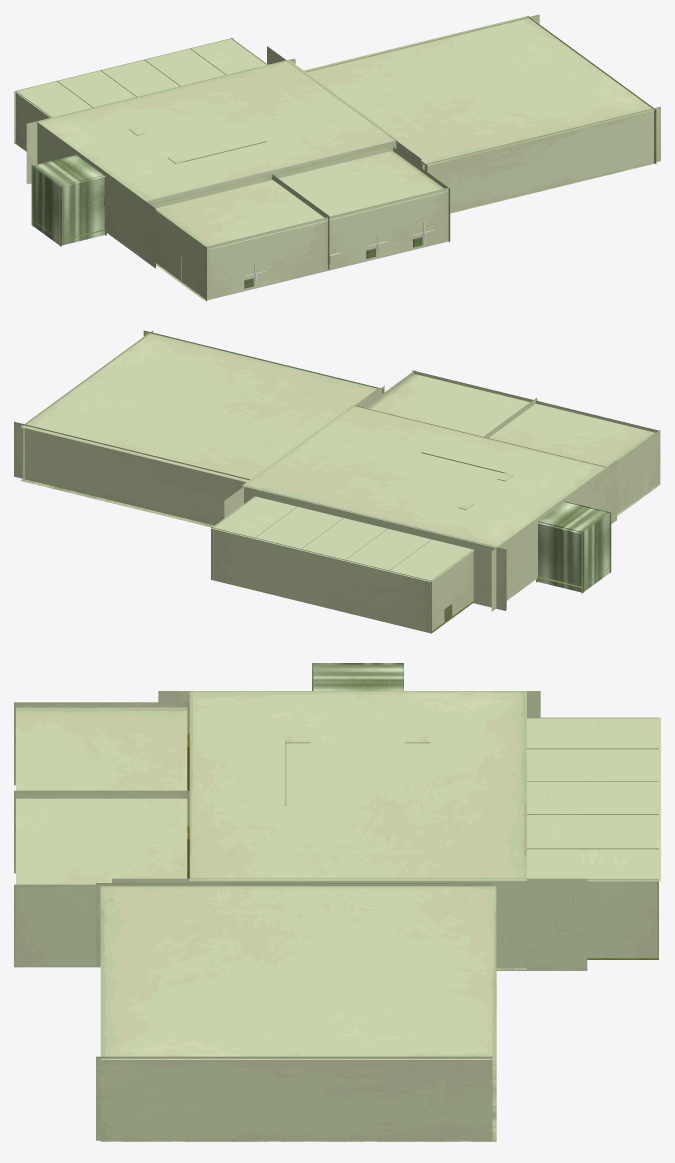
Rendered from Dream4.glb.
3 views of the same model, one above another, from view 1: azimuth 30°, elevation 25°; view 2: azimuth 150°, elevation 25°; view 3: azimuth 270°, elevation 25° (orthographic). The views are drawn at different scales.
Parts seen in each view (by area): view 1: Estructura; view 2: Estructura; view 3: Estructura.
Boxes of the visible parts, x1,y1,x2,y2 form: Estructura: (14,14,660,301); Estructura: (14,330,660,633); Estructura: (14,663,660,1141).
Bounding box in the file's own units: 38.98 × 4.47 × 26.49.
42 materials, 40 textured.
